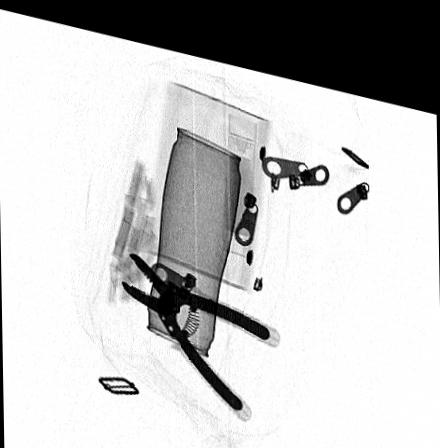Pliers: (120, 244, 271, 398)
